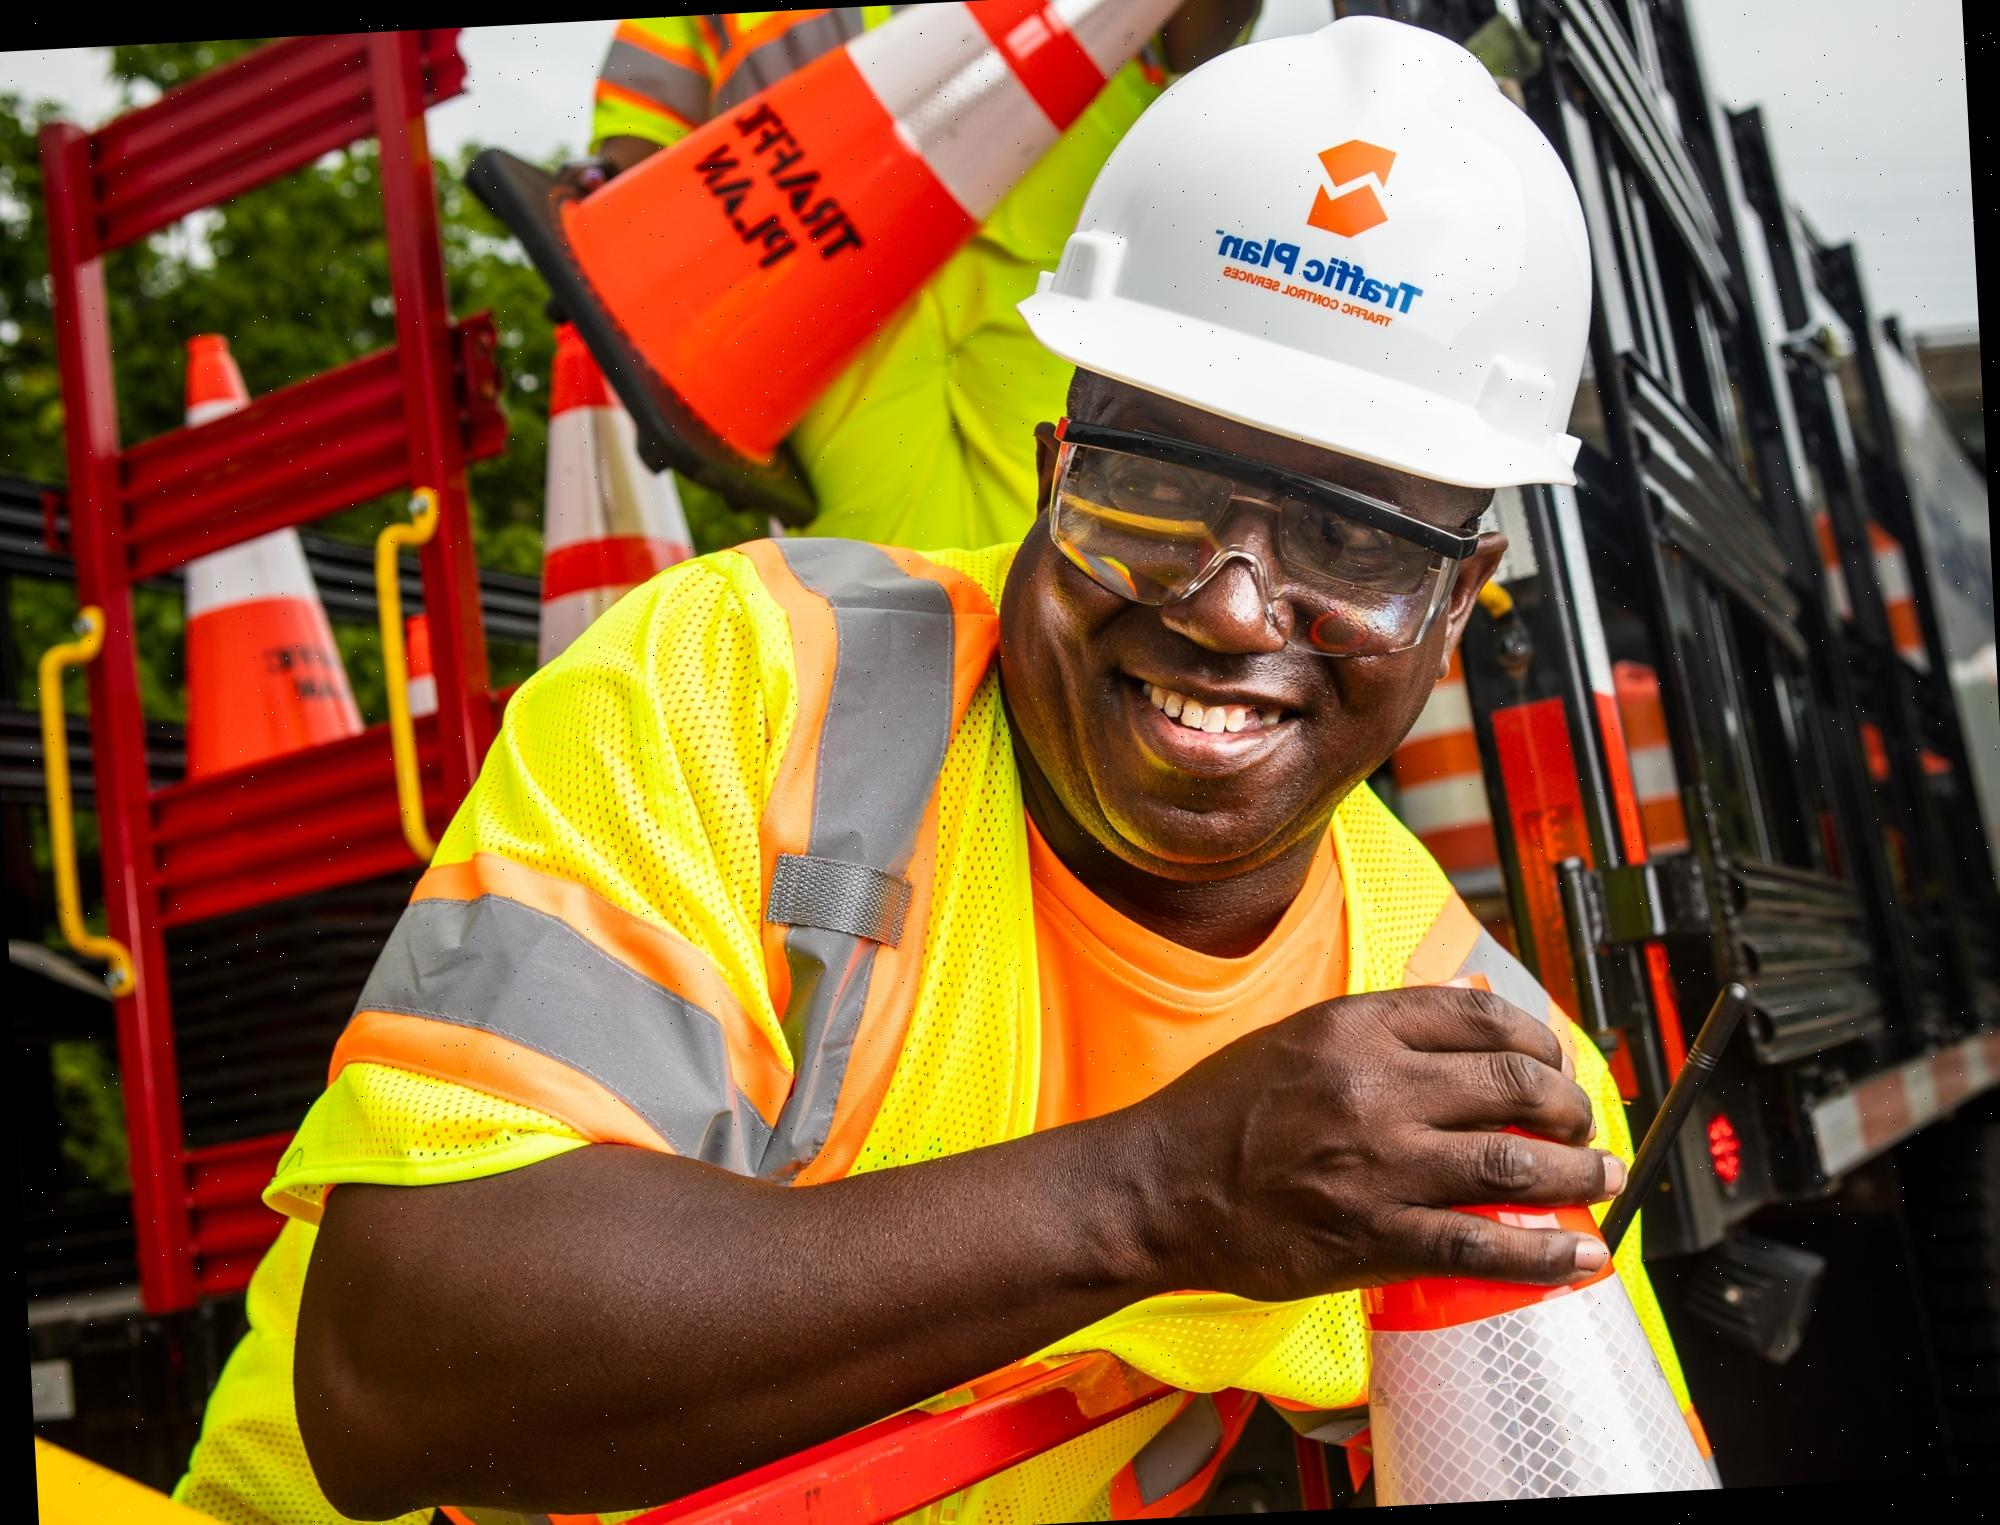helmet: (966, 0, 1622, 594)
wear: (165, 827, 1620, 1525)
